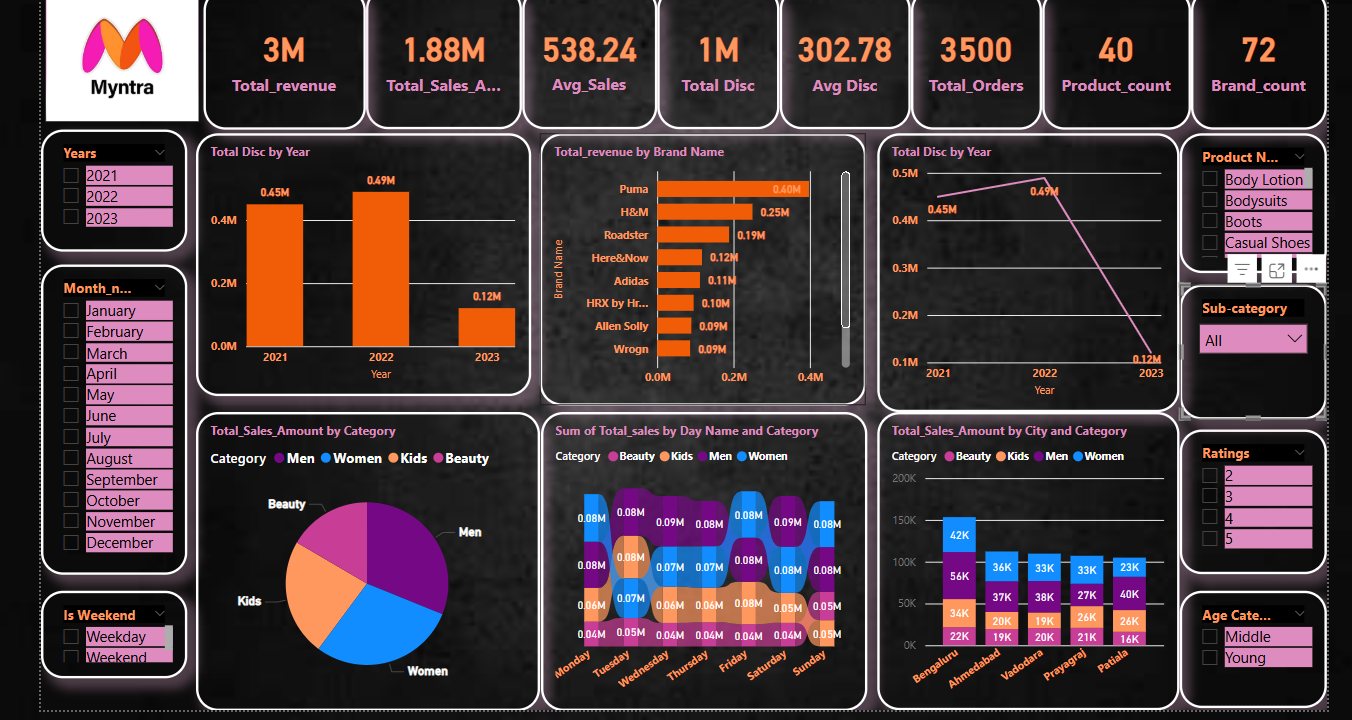

What the dashboard file says about the page in this screenshot:
{"tool":"powerbi","page":{"name":"Myntra Dashboard","canvas":[1280,720],"ordinal":0},"visuals":[{"type":"image","box":[0,0,161.7,141.8],"z":0},{"type":"card","fields":{"Values":["Measure Table.Total_Sales_Amount"]},"box":[323.4,0,155.5,141.8],"z":1000},{"type":"card","fields":{"Values":["Measure Table.Total_revenue"]},"box":[161.7,1.2,161.7,140.6],"z":2000},{"type":"card","fields":{"Values":["Measure Table.Avg_Sales"]},"box":[478.9,0,134.3,141.8],"z":3000},{"type":"card","fields":{"Values":["Measure Table.Total Disc"]},"box":[613.3,0,121.9,141.8],"z":4000},{"type":"card","fields":{"Values":["Measure Table.Avg Disc"]},"box":[735.2,0,130.6,141.8],"z":5000},{"type":"card","fields":{"Values":["Measure Table.Total_Orders"]},"box":[865.8,1.2,130.6,140.6],"z":6000},{"type":"card","fields":{"Values":["Measure Table.Product_count"]},"box":[996.4,1.2,148,140.6],"z":7000},{"type":"card","fields":{"Values":["Measure Table.Brand_count"]},"box":[1144.4,1.2,135.6,140.6],"z":8000},{"type":"slicer","fields":{"Values":["date_table.Years"]},"box":[0,141.8,145.5,121.9],"z":9000},{"type":"slicer","fields":{"Values":["date_table.Month_name"]},"box":[0,276.2,145.5,308.5],"z":10000},{"type":"slicer","fields":{"Values":["date_table.Is Weekend"]},"box":[0,600.8,145.5,87.1],"z":11000},{"type":"clusteredColumnChart","fields":{"Y":["Measure Table.Total Disc"],"Category":["date_table.Date.Variation.Date Hierarchy.Year"]},"box":[154.3,145.5,333.4,261.2],"z":12000},{"type":"clusteredBarChart","fields":{"Category":["dim_products.Brand Name"],"Y":["Measure Table.Total_revenue"]},"box":[496.3,145.5,324.7,271.2],"z":12001},{"type":"pieChart","fields":{"Y":["Measure Table.Total_Sales_Amount"],"Category":["dim_products.Category"]},"box":[154.3,422.9,342.1,297.3],"z":12002},{"type":"lineChart","fields":{"Category":["date_table.Date.Variation.Date Hierarchy.Year","date_table.Date.Variation.Date Hierarchy.Quarter","date_table.Date.Variation.Date Hierarchy.Month","date_table.Date.Variation.Date Hierarchy.Day"],"Y":["Measure Table.Total Disc"]},"box":[832.2,145.5,301,277.4],"z":12003},{"type":"ribbonChart","fields":{"Y":["Sum(fact_orders.Total_sales)"],"Series":["dim_products.Category"],"Category":["date_table.Day Name"]},"box":[497.6,422.9,324.7,297.3],"z":12004},{"type":"columnChart","fields":{"Y":["Measure Table.Total_Sales_Amount"],"Category":["dim_customers.City"],"Series":["dim_products.Category"]},"box":[832,423,301,297],"z":12005},{"type":"slicer","fields":{"Values":["dim_products.Product Name"]},"box":[1133.2,145.5,146.8,139.3],"z":12006},{"type":"slicer","fields":{"Values":["dim_products.Sub-category"]},"box":[1133.2,296.1,146.8,134.3],"z":12007},{"type":"slicer","fields":{"Values":["dim_products.Ratings"]},"box":[1133.2,440.4,146.8,144.3],"z":12008},{"type":"slicer","fields":{"Values":["dim_customers.Age Category"]},"box":[1133.2,600.8,146.8,116.9],"z":12009}]}

Visuals, with their boxes in screenshot pixels (x1, y1, x2, y2):
image: 25,0,190,124
card - Measure Table.Total_Sales_Amount: 354,0,513,124
card - Measure Table.Total_revenue: 190,0,354,124
card - Measure Table.Avg_Sales: 513,0,650,124
card - Measure Table.Total Disc: 650,0,775,124
card - Measure Table.Avg Disc: 775,0,908,124
card - Measure Table.Total_Orders: 908,0,1041,124
card - Measure Table.Product_count: 1041,0,1192,124
card - Measure Table.Brand_count: 1192,0,1330,124
slicer - date_table.Years: 25,124,173,248
slicer - date_table.Month_name: 25,261,173,575
slicer - date_table.Is Weekend: 25,592,173,680
clusteredColumnChart - Measure Table.Total Disc x date_table.Date.Variation.Date Hierarchy.Year: 182,127,522,394
clusteredBarChart - dim_products.Brand Name x Measure Table.Total_revenue: 531,127,862,404
pieChart - Measure Table.Total_Sales_Amount x dim_products.Category: 182,410,531,713
lineChart - date_table.Date.Variation.Date Hierarchy.Year x date_table.Date.Variation.Date Hierarchy.Quarter: 873,127,1180,410
ribbonChart - Sum(fact_orders.Total_sales) x dim_products.Category: 532,410,863,713
columnChart - Measure Table.Total_Sales_Amount x dim_customers.City: 873,410,1180,713
slicer - dim_products.Product Name: 1180,127,1330,269
slicer - dim_products.Sub-category: 1180,281,1330,418
slicer - dim_products.Ratings: 1180,428,1330,575
slicer - dim_customers.Age Category: 1180,592,1330,711
